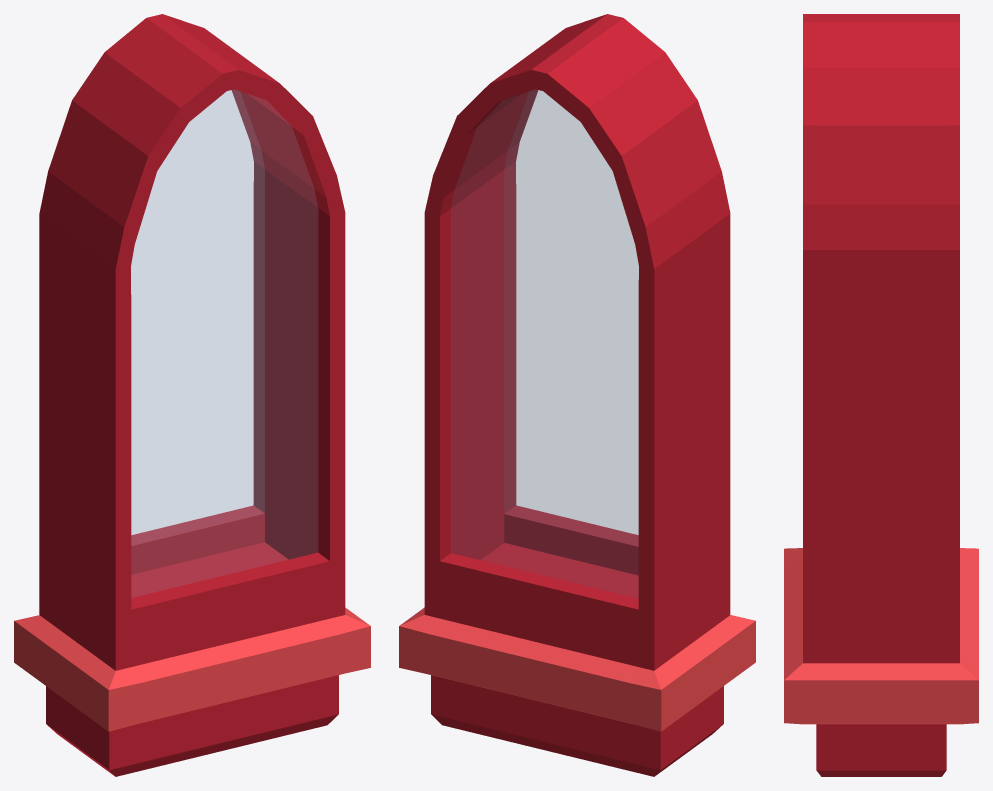
File: window_001_grp.fbx
The picture shows the model from 3 angles, left to right: view 1: azimuth 30°, elevation 25°; view 2: azimuth 150°, elevation 25°; view 3: azimuth 270°, elevation 25°; orthographic projection. The views are drawn at different scales.
Visible parts, largest first — view 1: window_001_grp; view 2: window_001_grp; view 3: window_001_grp.
Boxes of the visible parts, left/top/right/bottom form: window_001_grp: left=14, top=14, right=370, bottom=776; window_001_grp: left=399, top=14, right=755, bottom=776; window_001_grp: left=784, top=14, right=978, bottom=776.
Bounding box in the file's own units: 80 × 200 × 50.
